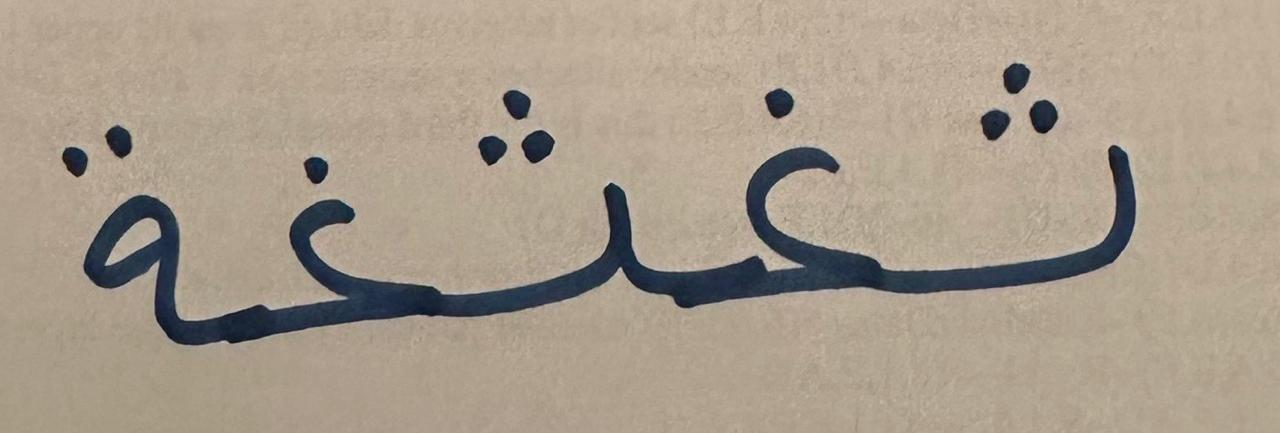ghain: (665, 42, 902, 358), (229, 113, 432, 369)
thal: (26, 82, 227, 365)
waw: (905, 42, 1198, 361), (434, 30, 662, 333)
